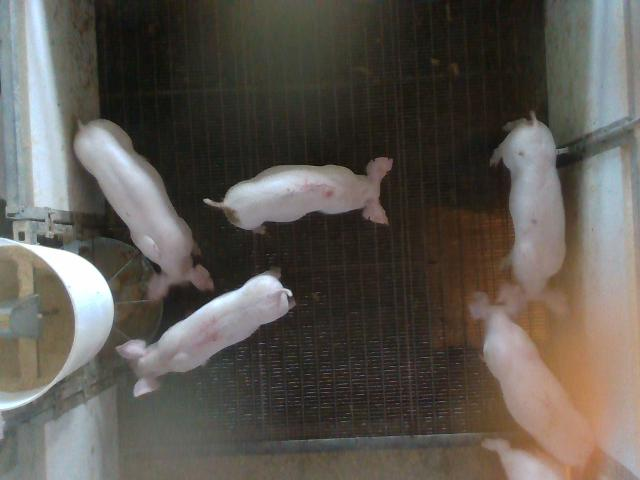pig-4: (118, 271, 295, 396)
pig-5: (204, 159, 392, 232)
